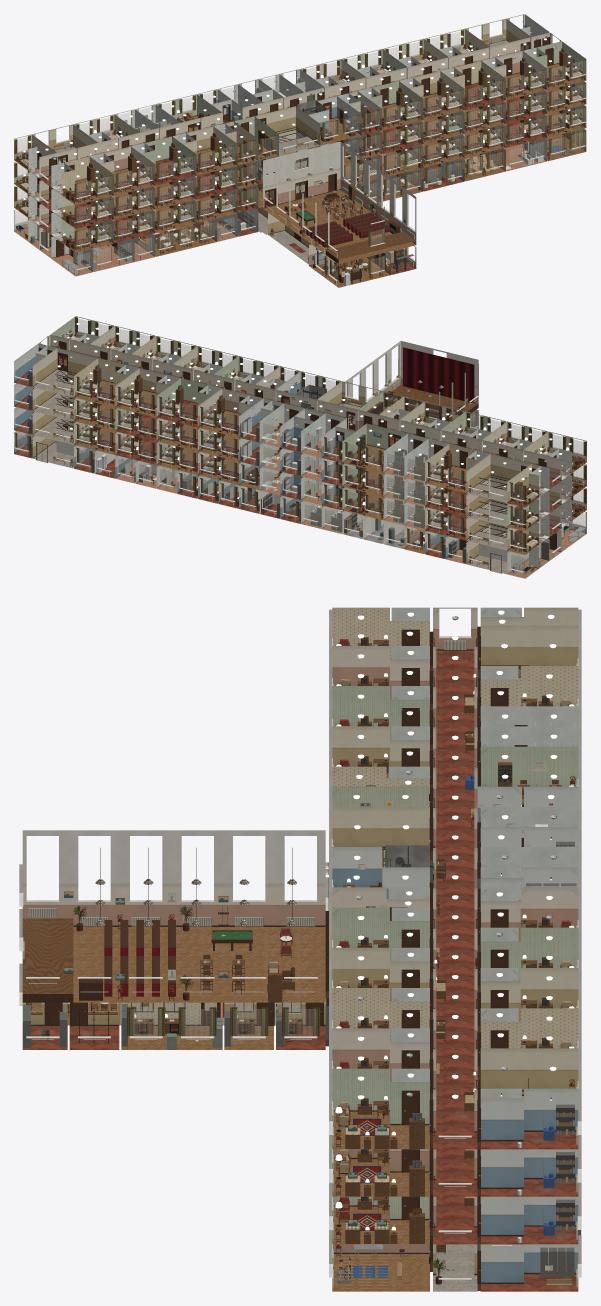
Rendered from SovietSanatorium_Interior.glb.
3 renders of one model, top to bottom at view 1: azimuth 30°, elevation 25°; view 2: azimuth 150°, elevation 25°; view 3: azimuth 270°, elevation 25°, orthographic. The views are drawn at different scales.
Visible parts, largest first — view 1: Shell_L1_EB_HALL, Shell_L3_C, Shell_L0_STAIR1, Shell_L3_F0, WindowReveals_L1, Shell_L3_F13, Shell_L3_F4, Shell_L3_F6, Shell_L3_F2, Shell_L0_EB_BAR, Shell_L3_F17, Shell_L3_F15 (+55 smaller); view 2: Shell_L3_C, Shell_L0_STAIR2, stage_curtain_EB_HALL, Shell_L0_STAIR3, Stair3_Flights, Stair2_Flights, Shell_L1_EB_HALL, Shell_L3_R7, Shell_L3_R18, Shell_L3_R20, Shell_L3_R16, Shell_L3_R14 (+62 smaller); view 3: Shell_L1_EB_HALL, Shell_L3_C, Shell_L3_R24, Shell_L3_F23, stage_EB_HALL, WindowReveals_L3, Shell_L1_R24, Shell_L0_STAIR3, Shell_L0_STAIR2, Shell_L0_F23, Shell_L2_R24, Shell_L0_STAIR1 (+46 smaller).
Boxes of the visible parts, x1,y1,x2,y2 form: Shell_L1_EB_HALL: (263, 141, 416, 263); Shell_L3_C: (39, 32, 560, 186); Shell_L0_STAIR1: (255, 106, 320, 186); Shell_L3_F0: (61, 156, 113, 205); WindowReveals_L1: (39, 107, 585, 244); Shell_L3_F13: (308, 96, 361, 145); Shell_L3_F4: (142, 136, 196, 185); Shell_L3_F6: (183, 126, 237, 175); Shell_L3_F2: (100, 146, 155, 195); Shell_L0_EB_BAR: (309, 244, 390, 287); Shell_L3_F17: (409, 71, 464, 120); Shell_L3_F15: (368, 81, 423, 130); Shell_L3_C: (39, 334, 561, 488); Shell_L0_STAIR2: (466, 453, 530, 574); stage_curtain_EB_HALL: (403, 347, 474, 403); Shell_L0_STAIR3: (32, 348, 97, 468); Stair3_Flights: (33, 369, 75, 456); Stair2_Flights: (466, 484, 509, 561); Shell_L1_EB_HALL: (345, 341, 478, 420); Shell_L3_R7: (342, 423, 407, 472); Shell_L3_R18: (115, 368, 170, 417); Shell_L3_R20: (74, 358, 128, 407); Shell_L3_R16: (156, 378, 211, 427); Shell_L3_R14: (198, 388, 252, 437); Shell_L1_EB_HALL: (22, 830, 325, 1002); Shell_L3_C: (433, 607, 477, 1149); Shell_L3_R24: (480, 1088, 578, 1149); Shell_L3_F23: (332, 1068, 429, 1149); stage_EB_HALL: (22, 918, 73, 1002); WindowReveals_L3: (329, 609, 581, 1121); Shell_L1_R24: (480, 1196, 578, 1244); Shell_L0_STAIR3: (480, 1048, 578, 1098); Shell_L0_STAIR2: (480, 625, 578, 668); Shell_L0_F23: (332, 1244, 429, 1291); Shell_L2_R24: (480, 1149, 578, 1196); Shell_L0_STAIR1: (332, 807, 429, 849).
Bounding box in the file's own units: 74.72 × 14.5 × 35.42.
25 materials, 21 textured.
